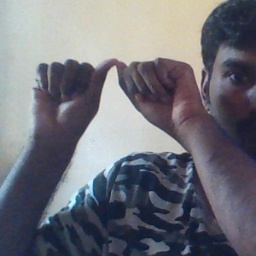A: (30, 58, 202, 141)
